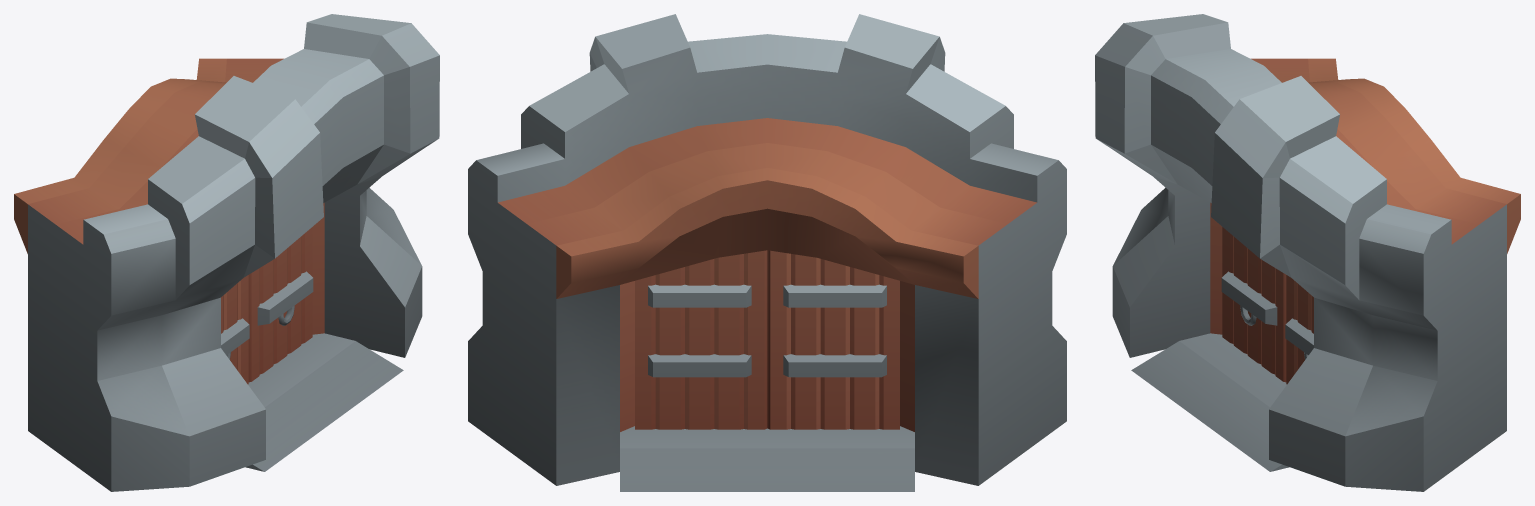
The model's file is wall_corner_A_gate.glb.
3 views of the same model, side by side, from view 1: azimuth 30°, elevation 25°; view 2: azimuth 150°, elevation 25°; view 3: azimuth 270°, elevation 25° (orthographic). The views are drawn at different scales.
Visible parts, largest first — view 1: wall_corner_A_gate, wall_corner_A_gate_door_left, wall_corner_A_gate_door_right; view 2: wall_corner_A_gate, wall_corner_A_gate_door_left, wall_corner_A_gate_door_right; view 3: wall_corner_A_gate, wall_corner_A_gate_door_right, wall_corner_A_gate_door_left.
Part boxes in pixels (x1,y1,x2,y2): wall_corner_A_gate: (14, 14, 439, 491); wall_corner_A_gate_door_left: (248, 227, 313, 382); wall_corner_A_gate_door_right: (221, 275, 249, 384); wall_corner_A_gate: (468, 14, 1066, 491); wall_corner_A_gate_door_left: (635, 250, 767, 429); wall_corner_A_gate_door_right: (767, 250, 899, 429); wall_corner_A_gate: (1095, 14, 1520, 491); wall_corner_A_gate_door_right: (1221, 227, 1286, 382); wall_corner_A_gate_door_left: (1285, 275, 1313, 384).
Size of the model in its own units: 1.76 by 1.42 by 1.53.
1 material, 1 textured.
